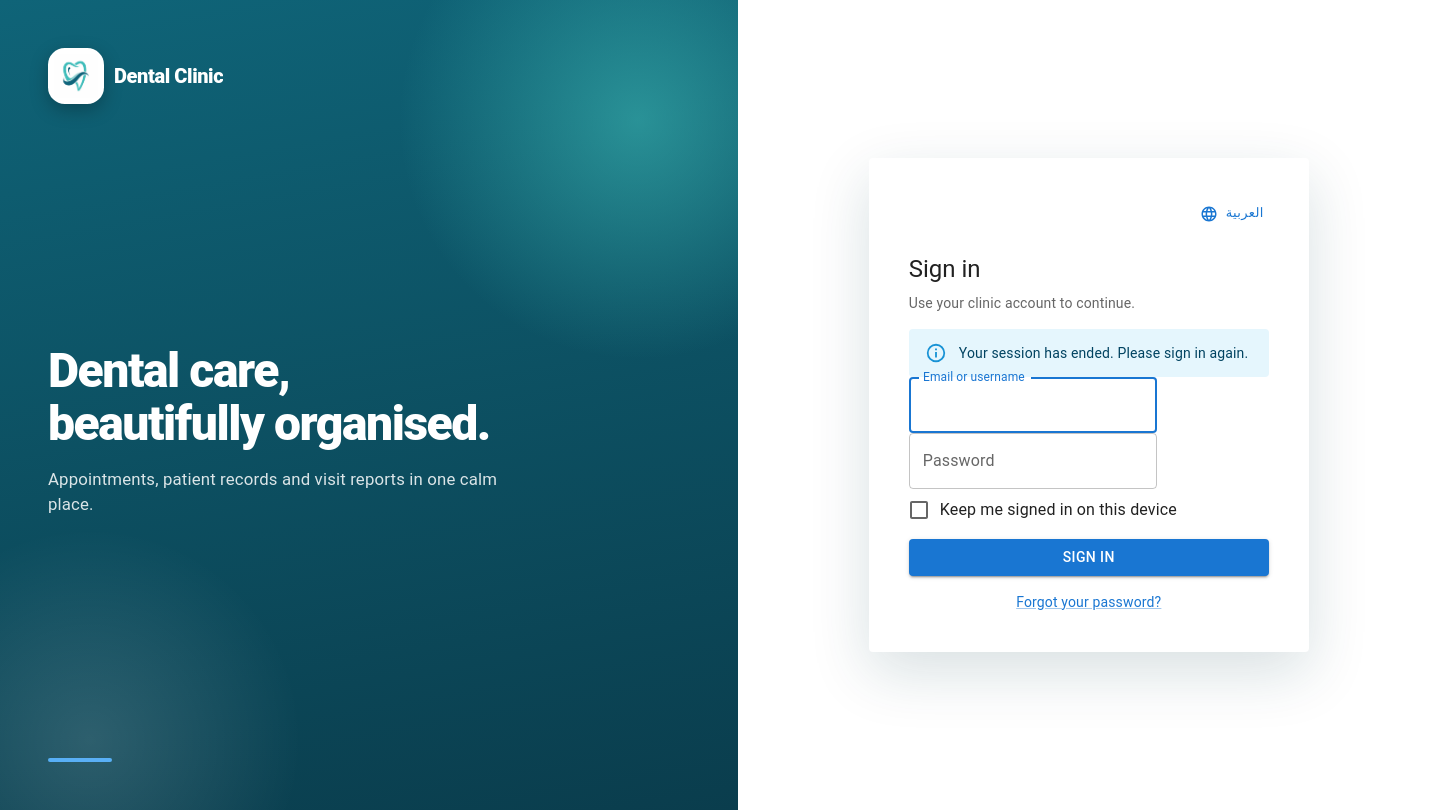
Test case: login form › shows the server’s error and stays on the page
Type "aya@clinic.test" into the field labelled "Email or username". click: (1033, 405)
box: x1=909 y1=377 x2=1157 y2=433
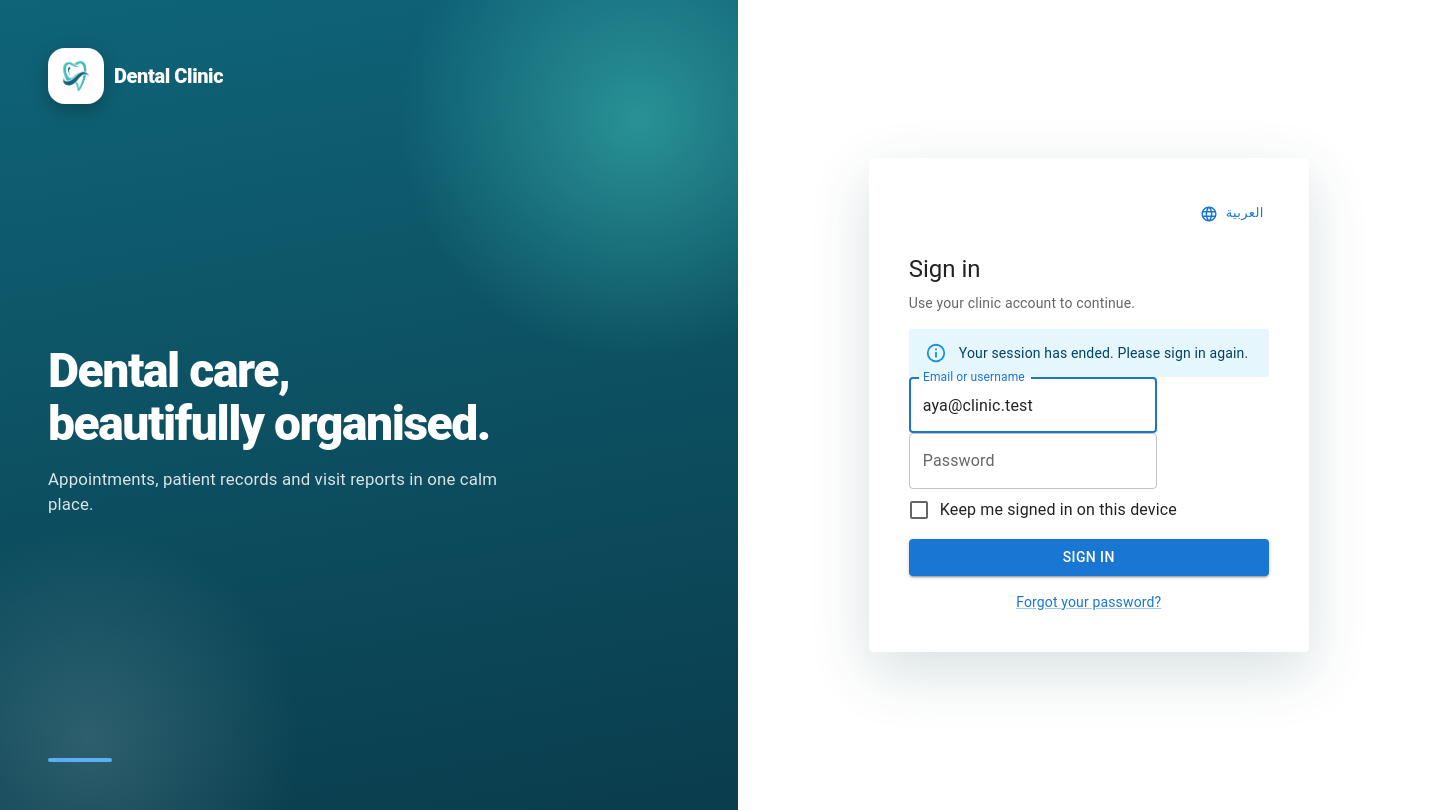
Type "wrong" into the password field labelled "Password". click: (1033, 461)
box: x1=909 y1=433 x2=1157 y2=489
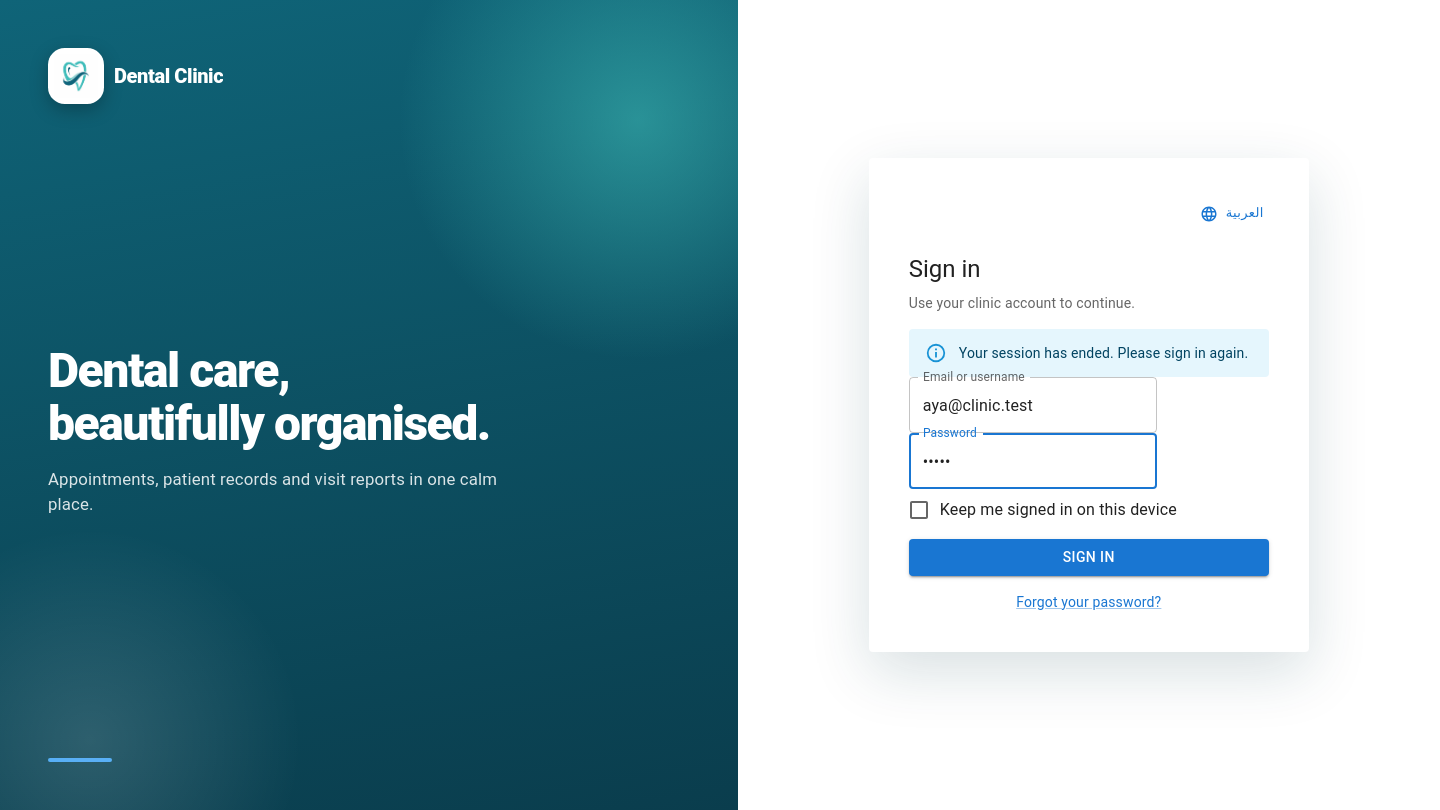
Click the button "Sign in". click: (1089, 558)
box: x1=909 y1=539 x2=1269 y2=576
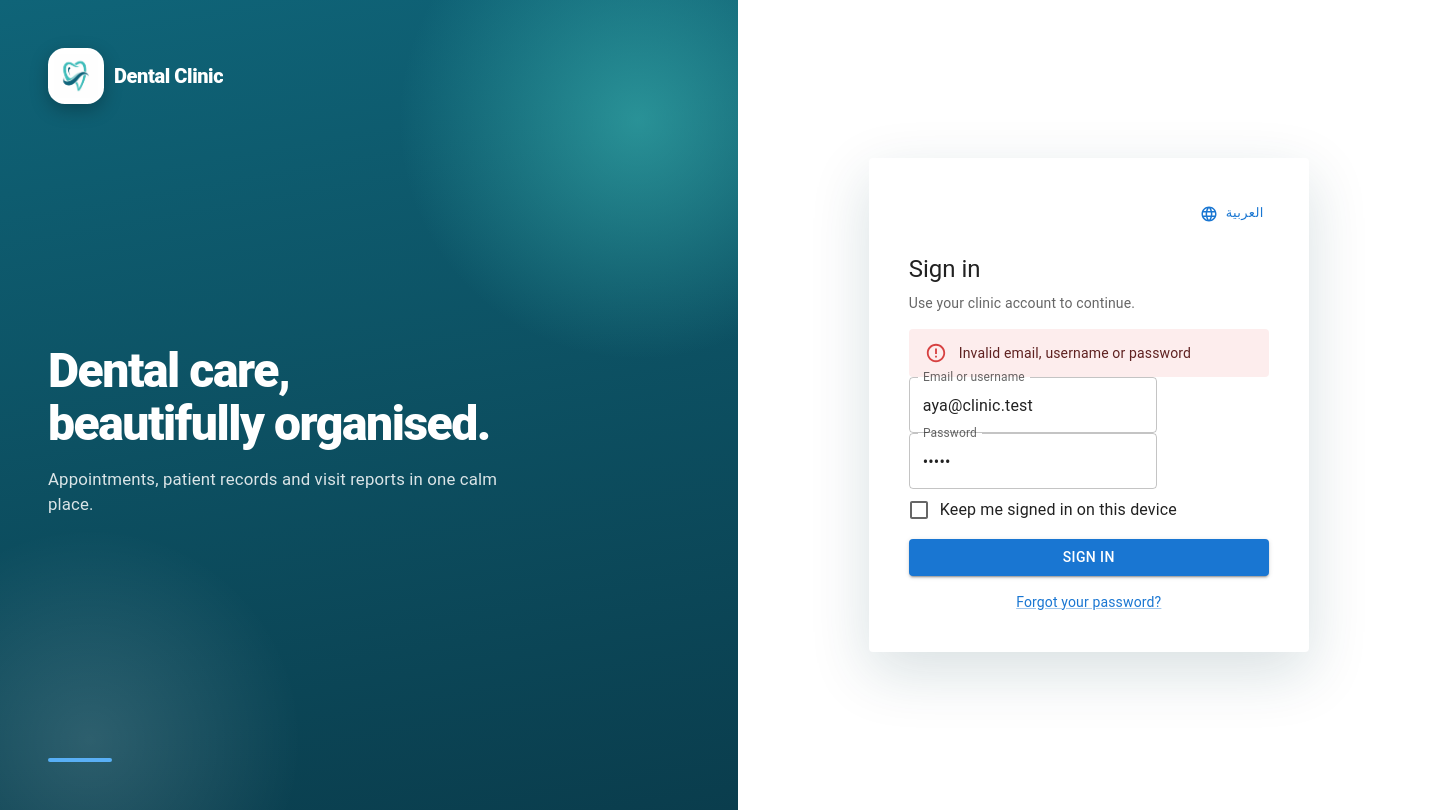
Check: the message reads "Invalid email, username or password", box x1=959 y1=345 x2=1191 y2=361
